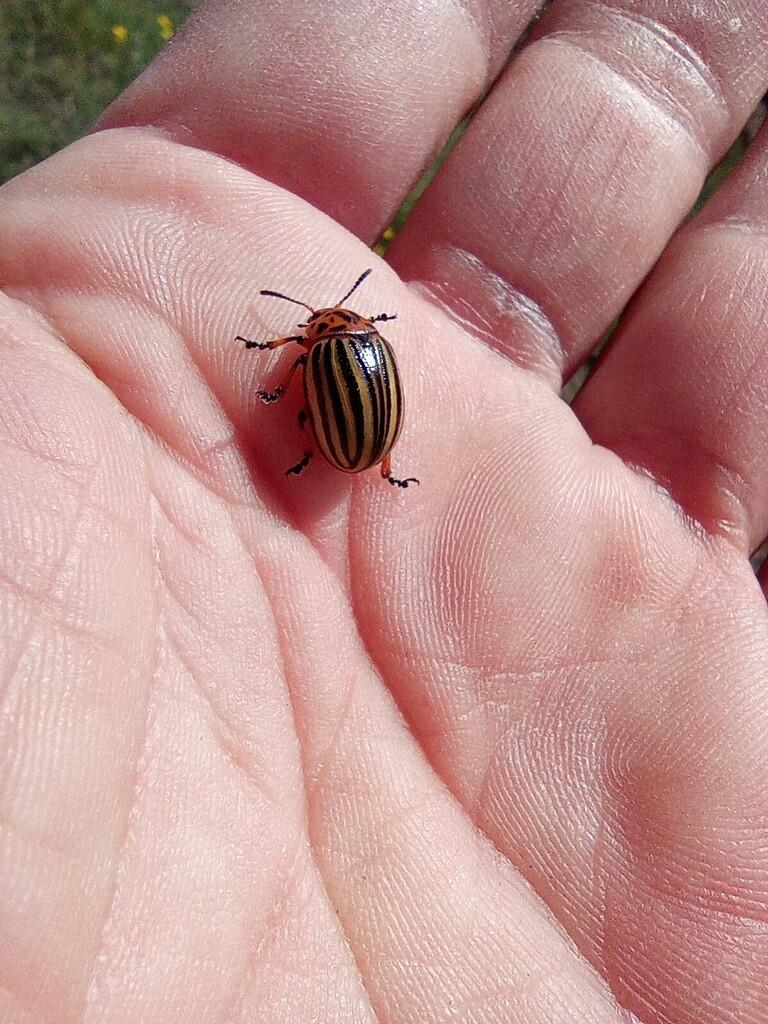potato_beetle: (200, 234, 492, 521)
